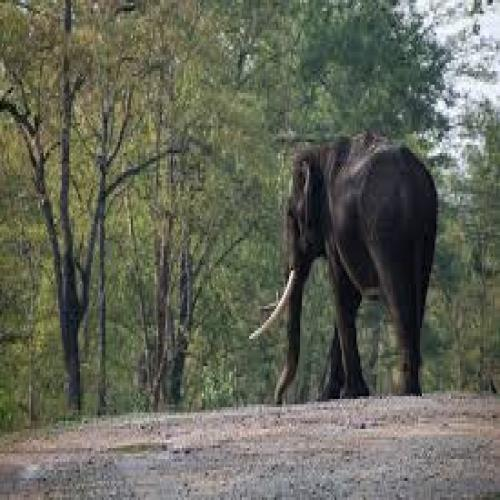asian_elephant-endangered: (251, 133, 436, 398)
